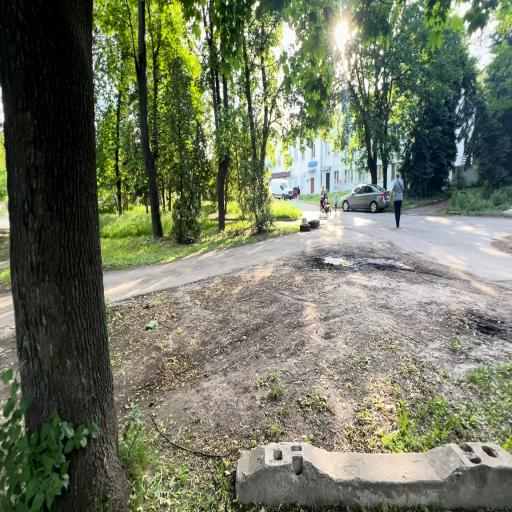drone: (180, 235, 196, 245)
